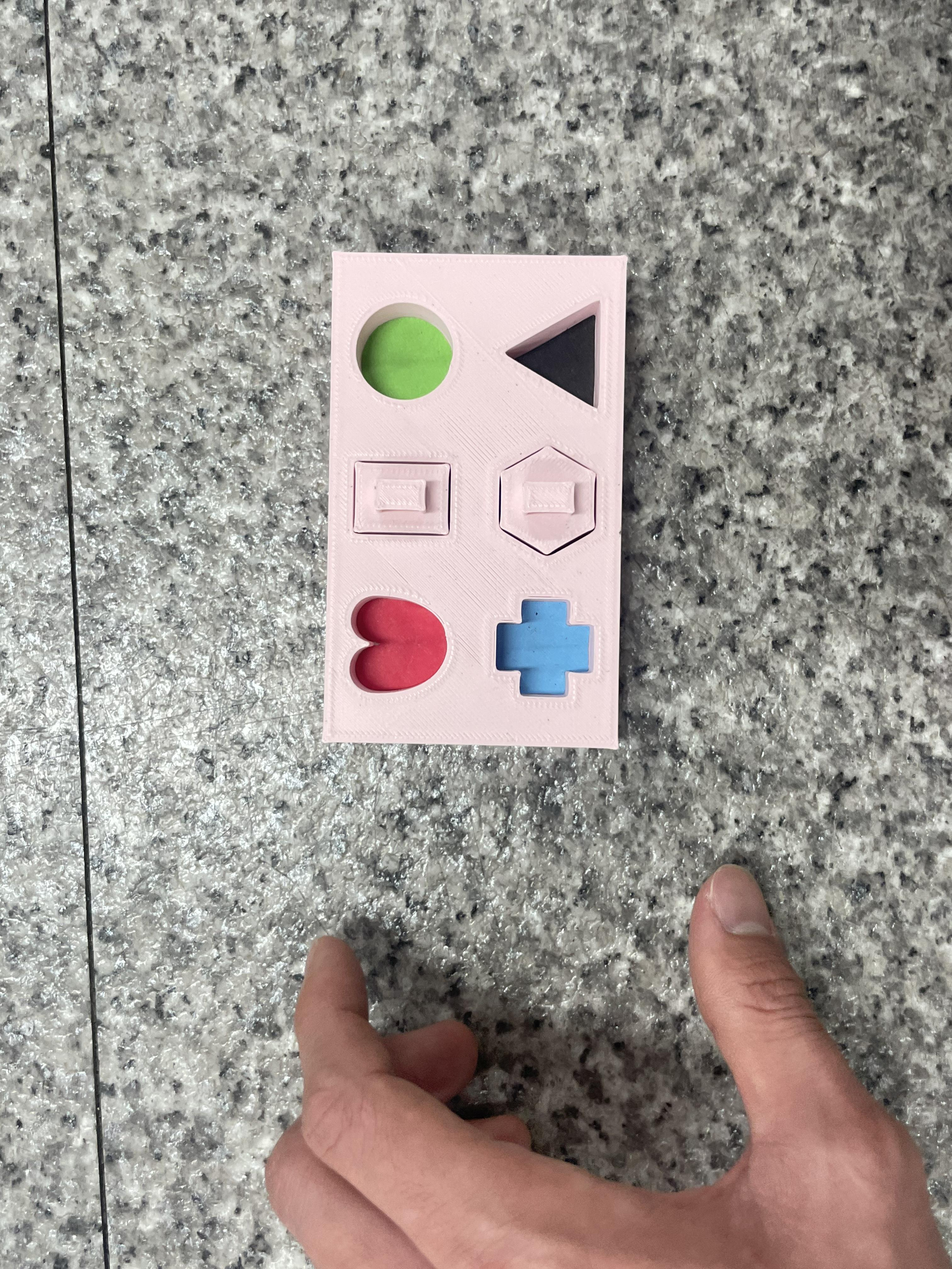unsolved: (296, 230, 674, 775)
